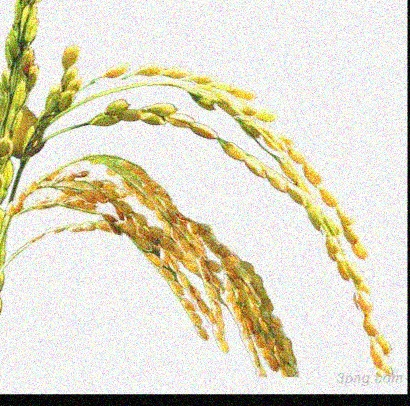rice: (47, 41, 394, 370), (18, 153, 297, 379)
